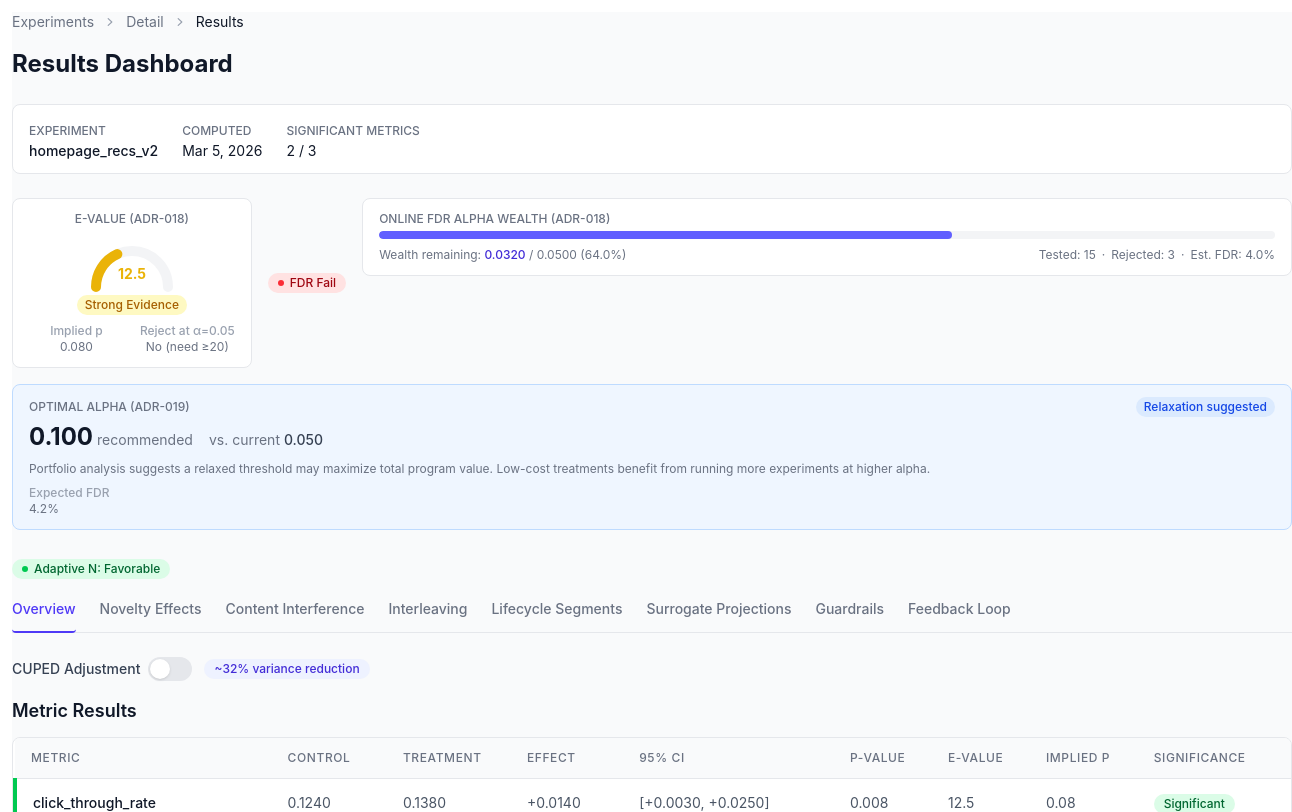
Scenario: Chaos: Partial outage — page loads but individual tab fails › overview tab works while novelty tab shows error
The image size is (1292, 812).
Check: the heading "Metric Results" is shown, box [12,700,137,721]
Switch to novelty — it's broken
Click the tab "Novelty Effects". click: x=150, y=614
box: [100,595,202,633]
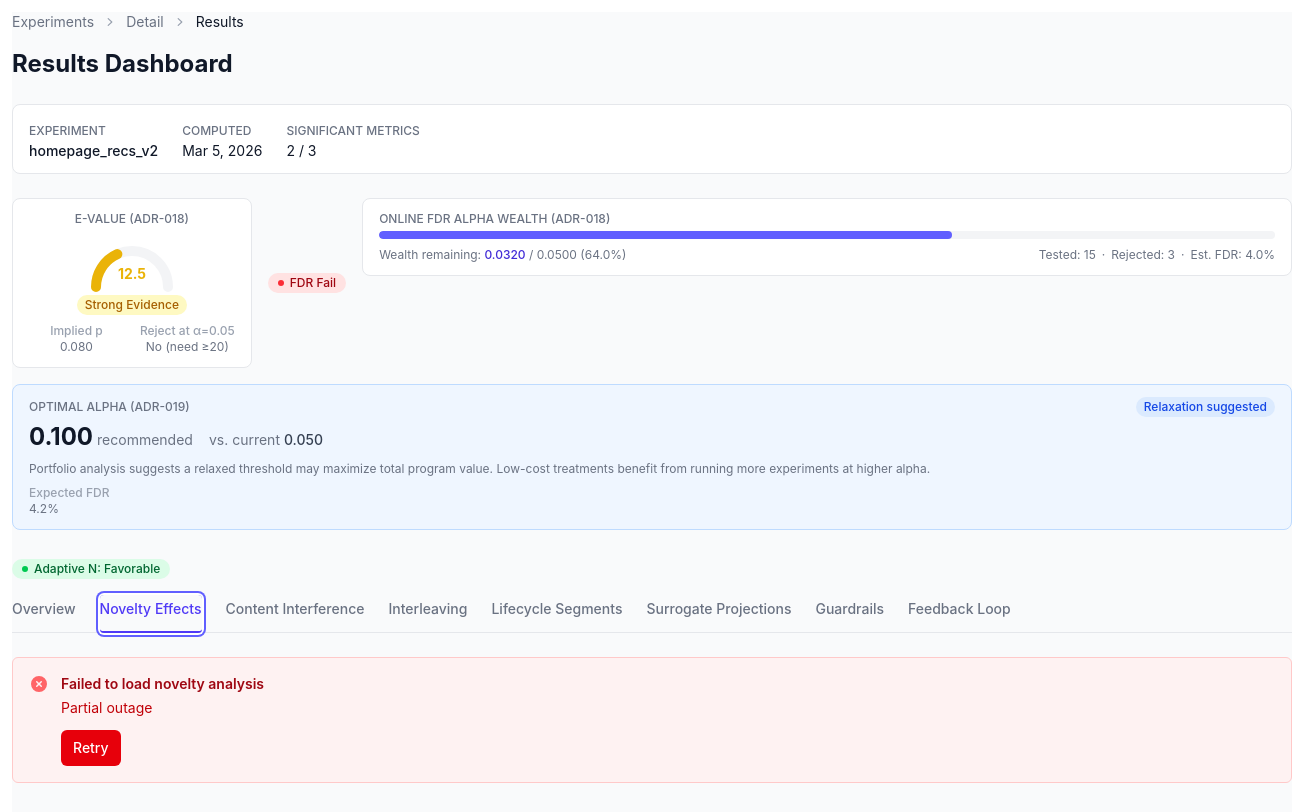
Check: the message "Failed to load novelty analysis Partial outage Retry" is shown, box [12,657,1291,783]
Check: the text "Partial outage" is shown, box [61,699,152,716]
Switch back to overview — still works fine
Click the tab "Overview". click: x=44, y=614
box: [12,595,76,633]
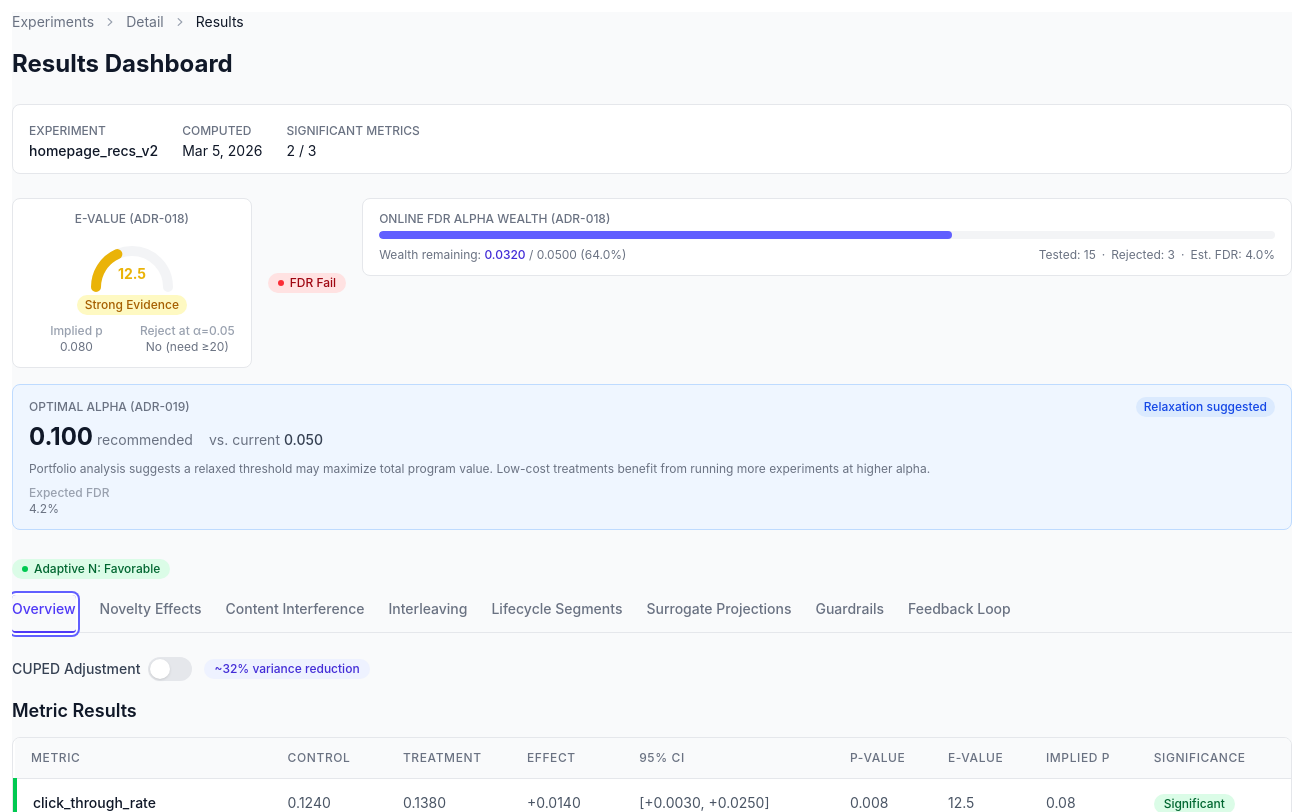
Check: the heading "Metric Results" is shown, box [12,700,137,721]
Check: the message with test id "retryable-error" is gone
